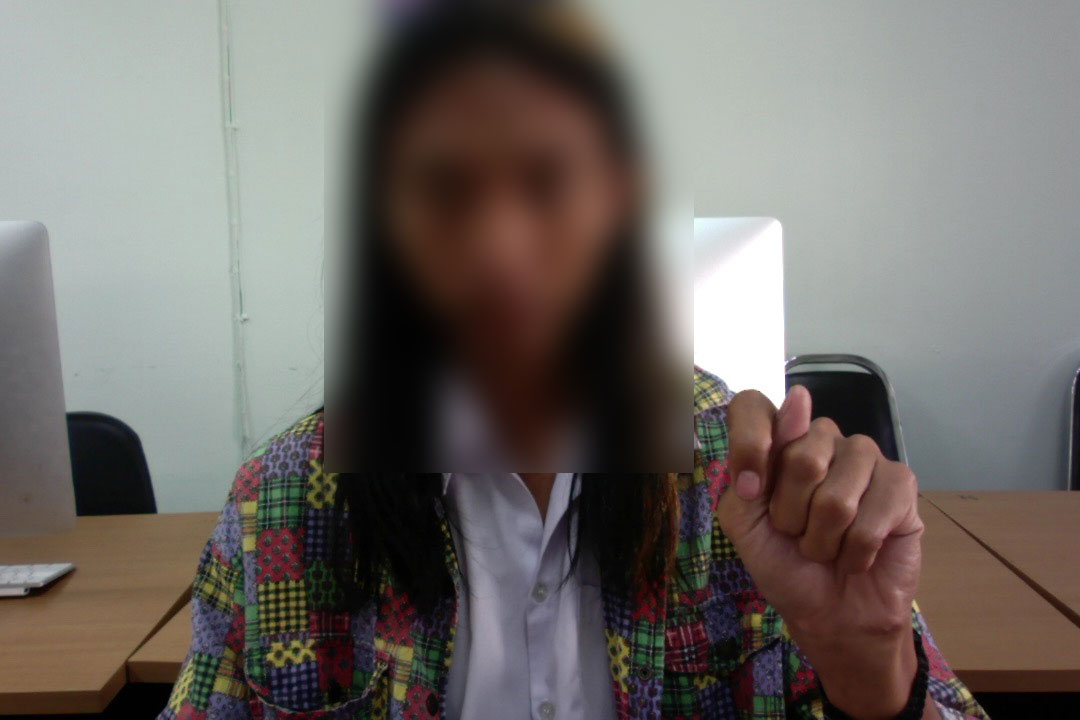tor: (705, 382, 932, 661)
